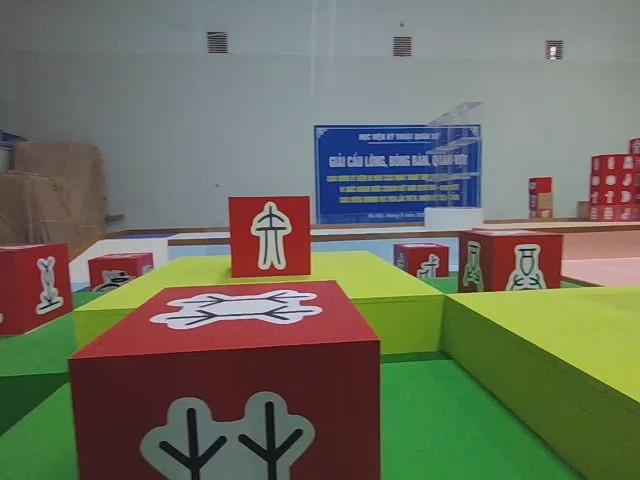R1: (85, 249, 152, 296)
R2 Fake: (225, 193, 313, 276)
R2 Real: (64, 277, 383, 480), (0, 236, 75, 342), (458, 227, 564, 302), (394, 241, 451, 281)
